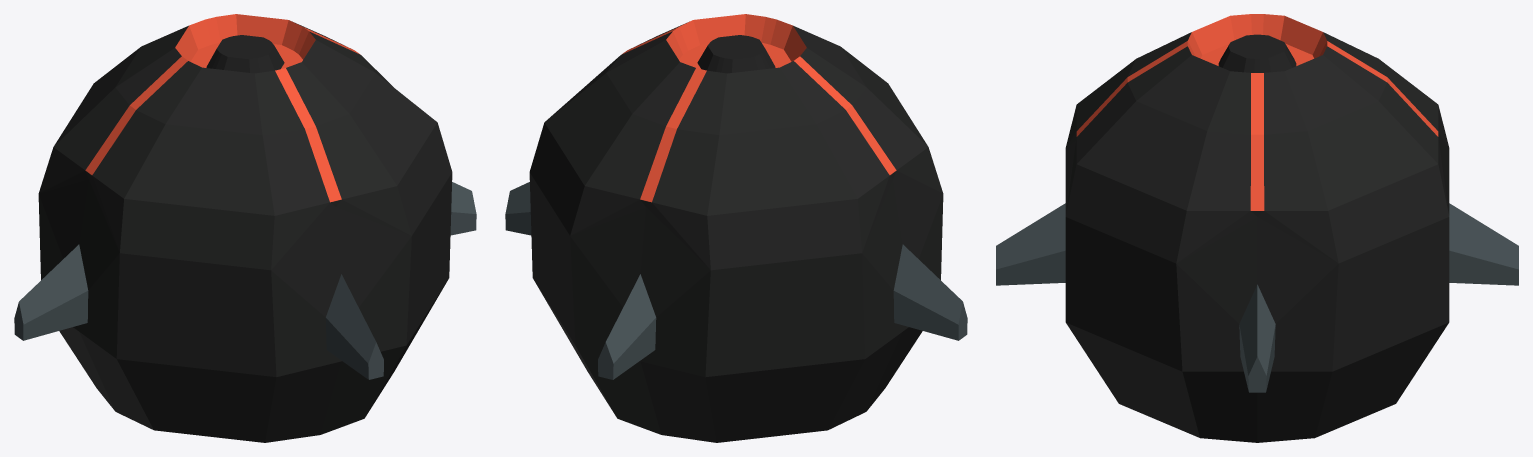
Rendered from EyeBall.fbx.
3 renders of one model, left to right at view 1: azimuth 30°, elevation 25°; view 2: azimuth 150°, elevation 25°; view 3: azimuth 270°, elevation 25°, orthographic.
Visible parts, largest first — view 1: EyeBall; view 2: EyeBall; view 3: EyeBall.
Boxes of the visible parts, x1=… form: EyeBall: x1=14, y1=14, x2=476, y2=442; EyeBall: x1=505, y1=14, x2=967, y2=442; EyeBall: x1=996, y1=14, x2=1518, y2=442.
Bounding box in the file's own units: 246 × 186 × 246.
